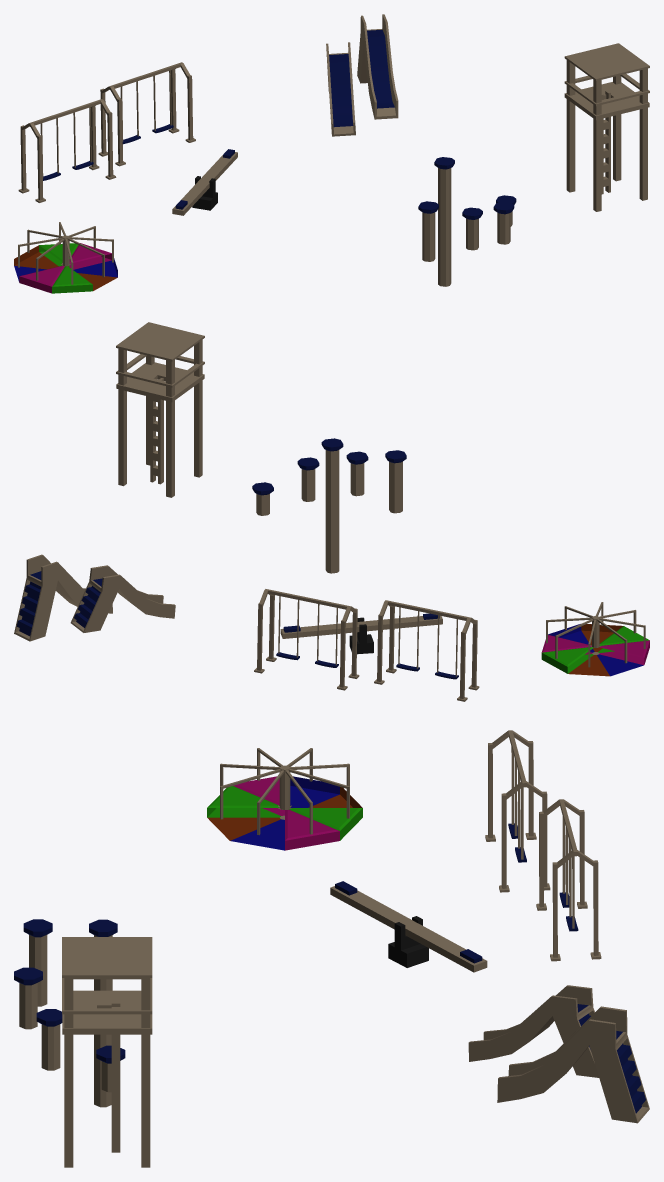
File: GGJ_GameLevel_Playground.fbx
The picture shows the model from 3 angles, top to bottom: view 1: azimuth 30°, elevation 25°; view 2: azimuth 150°, elevation 25°; view 3: azimuth 270°, elevation 25°; orthographic projection. The views are drawn at different scales.
Parts seen in each view (by area): view 1: Cube, Cylinder, Steps, Slides.001, Swing, Swing.001, Slides, Seesaw; view 2: Cube, Cylinder, Steps, Slides.001, Slides, Swing, Swing.001, Seesaw; view 3: Cube, Cylinder, Slides.001, Steps, Slides, Swing.001, Seesaw, Swing.
Boxes of the visible parts, <box> form: Cube: <box>564,43,649,211</box>; Cylinder: <box>14,222,117,293</box>; Steps: <box>418,157,516,286</box>; Slides.001: <box>357,14,398,119</box>; Swing: <box>18,99,116,202</box>; Swing.001: <box>98,62,195,166</box>; Slides: <box>326,42,355,136</box>; Seesaw: <box>172,149,237,215</box>; Cube: <box>116,322,204,497</box>; Cylinder: <box>541,602,649,676</box>; Steps: <box>252,438,406,573</box>; Slides.001: <box>14,554,112,641</box>; Slides: <box>70,565,175,632</box>; Swing: <box>374,600,479,701</box>; Swing.001: <box>254,589,359,690</box>; Seesaw: <box>280,613,442,654</box>; Cube: <box>62,937,152,1167</box>; Cylinder: <box>207,748,362,850</box>; Slides.001: <box>497,1006,649,1123</box>; Steps: <box>14,919,125,1107</box>; Slides: <box>468,985,598,1077</box>; Swing.001: <box>536,799,601,961</box>; Seesaw: <box>330,881,487,972</box>; Swing: <box>485,730,550,892</box>.
Size of the model in its own units: 88.3 by 27.72 by 60.79.
